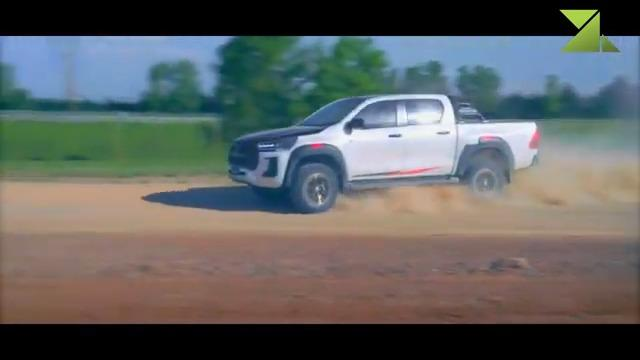MIL_HMMWV: (227, 90, 540, 214)
